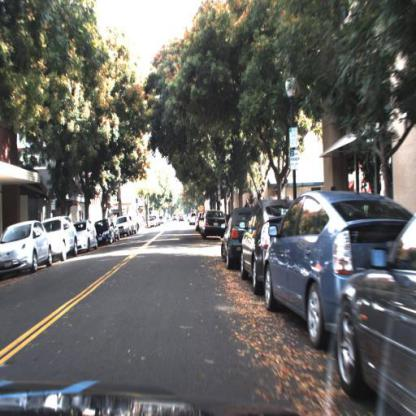car: (261, 189, 413, 350), (335, 202, 416, 413), (260, 188, 366, 348), (236, 196, 272, 293), (0, 218, 55, 278), (218, 204, 256, 272), (216, 198, 244, 272), (44, 212, 78, 263), (70, 216, 97, 253), (198, 208, 228, 239), (72, 218, 98, 253), (200, 207, 225, 240), (95, 216, 118, 249), (92, 219, 115, 247)
